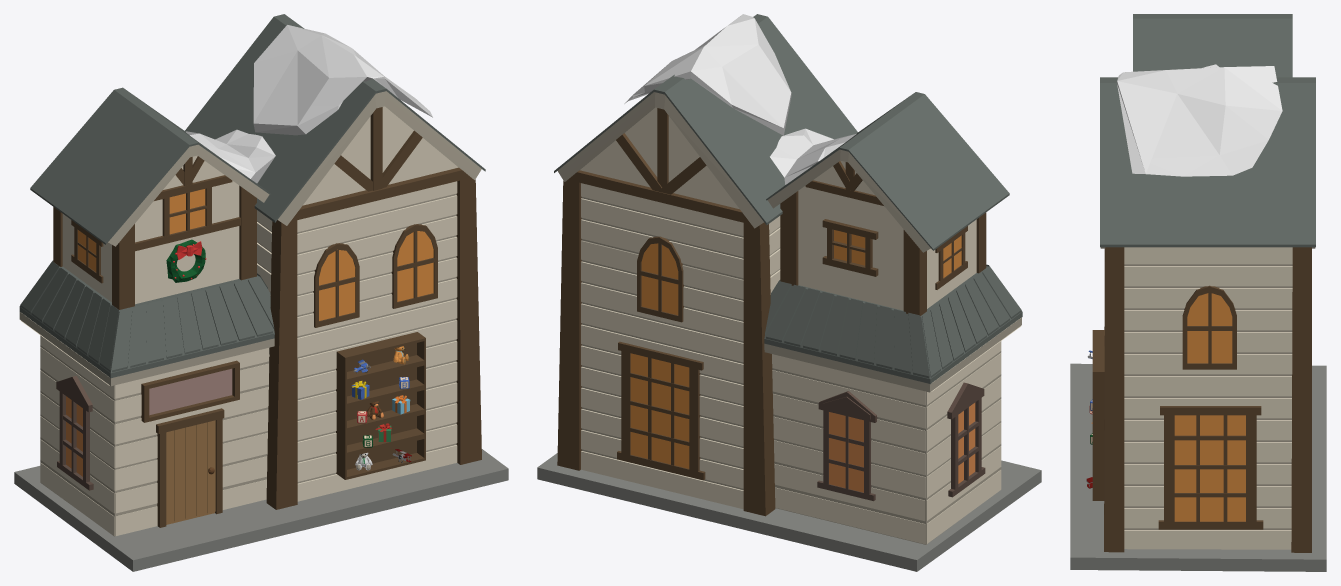
The model's file is FH_House5.fbx.
3 renders of one model, left to right at view 1: azimuth 30°, elevation 25°; view 2: azimuth 150°, elevation 25°; view 3: azimuth 270°, elevation 25°, orthographic. The views are drawn at different scales.
Visible parts, largest first — view 1: Cube.160; view 2: Cube.160; view 3: Cube.160.
Part boxes in pixels (x1,y1,x2,y2): Cube.160: (14,14,508,571); Cube.160: (537,14,1041,571); Cube.160: (1070,14,1326,571).
Bounding box in the file's own units: 3589 × 3797 × 1982.
